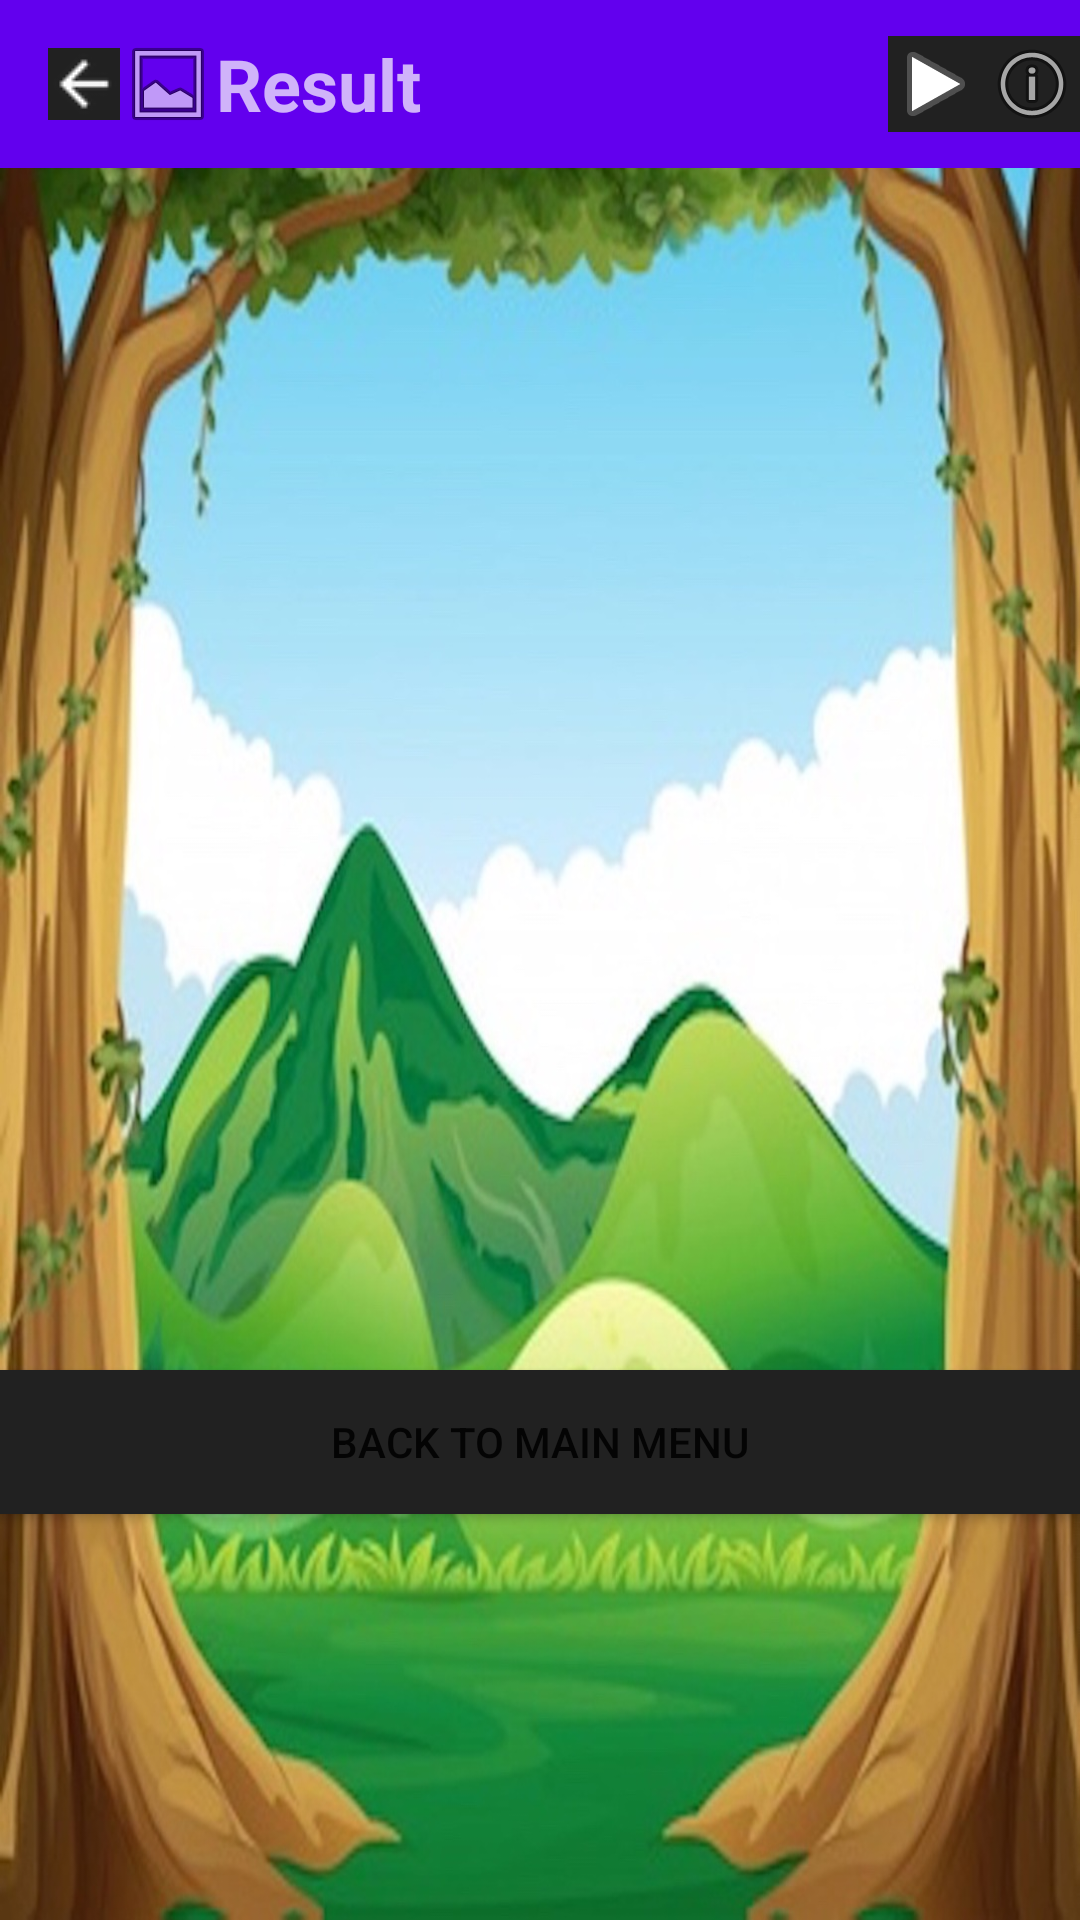

Icon bounding boxes for this 1080w x 1920h phone screenshot, format (x1, y1, x2, y2):
game icon image: (132, 48, 204, 120)
Go back to main menu: (48, 48, 120, 120)
info button: (1000, 53, 1064, 115)
play button: (888, 36, 984, 132)
